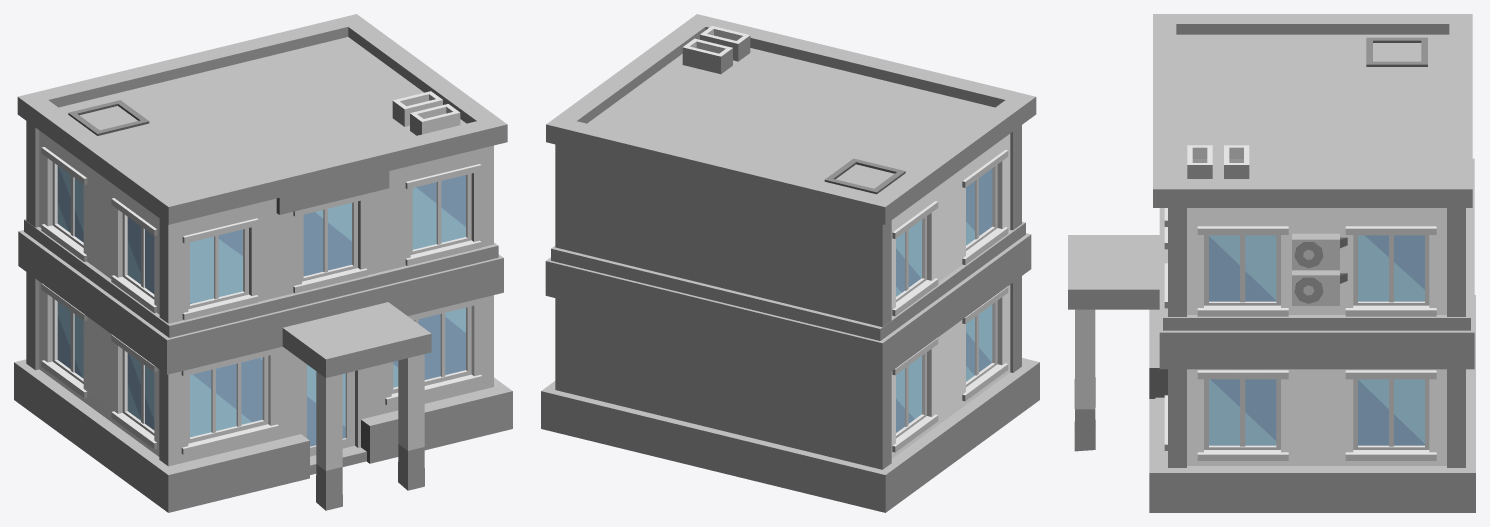
File: bank_003.glb
3 views of the same model, side by side, from view 1: azimuth 30°, elevation 25°; view 2: azimuth 150°, elevation 25°; view 3: azimuth 270°, elevation 25° (orthographic). The views are drawn at different scales.
Visible parts, largest first — view 1: bank_003; view 2: bank_003; view 3: bank_003.
Boxes of the visible parts, box(x1,y1,x2,y2) form: bank_003: box(14, 14, 512, 512); bank_003: box(541, 14, 1039, 512); bank_003: box(1068, 14, 1475, 512).
Bounding box in the file's own units: 7.1 × 6.17 × 6.87.
Materials: 1 (1 with a texture image).
